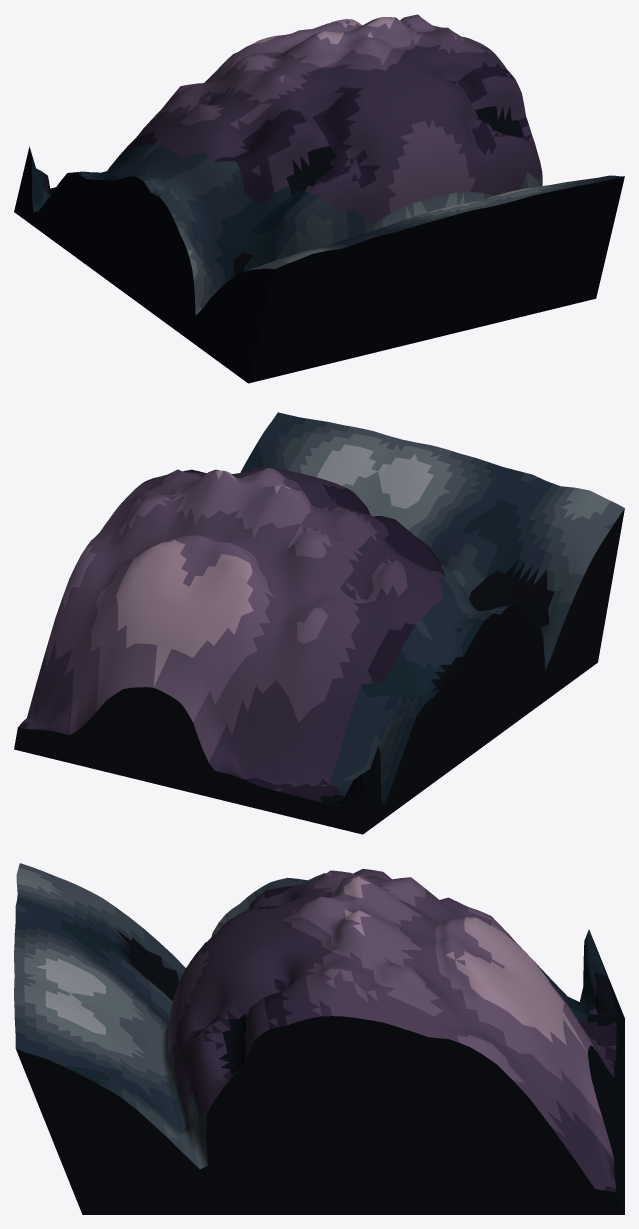
The model's file is gyges_maw_81.glb.
The picture shows the model from 3 angles, top to bottom: view 1: azimuth 30°, elevation 25°; view 2: azimuth 150°, elevation 25°; view 3: azimuth 270°, elevation 25°; orthographic projection. The views are drawn at different scales.
Parts seen in each view (by area): view 1: gyges_maw_81; view 2: gyges_maw_81; view 3: gyges_maw_81.
Boxes of the visible parts, x1,y1,x2,y2 form: gyges_maw_81: (14,14,624,383); gyges_maw_81: (14,412,624,834); gyges_maw_81: (14,863,624,1214).
Bounding box in the file's own units: 24 × 14.31 × 31.54.
